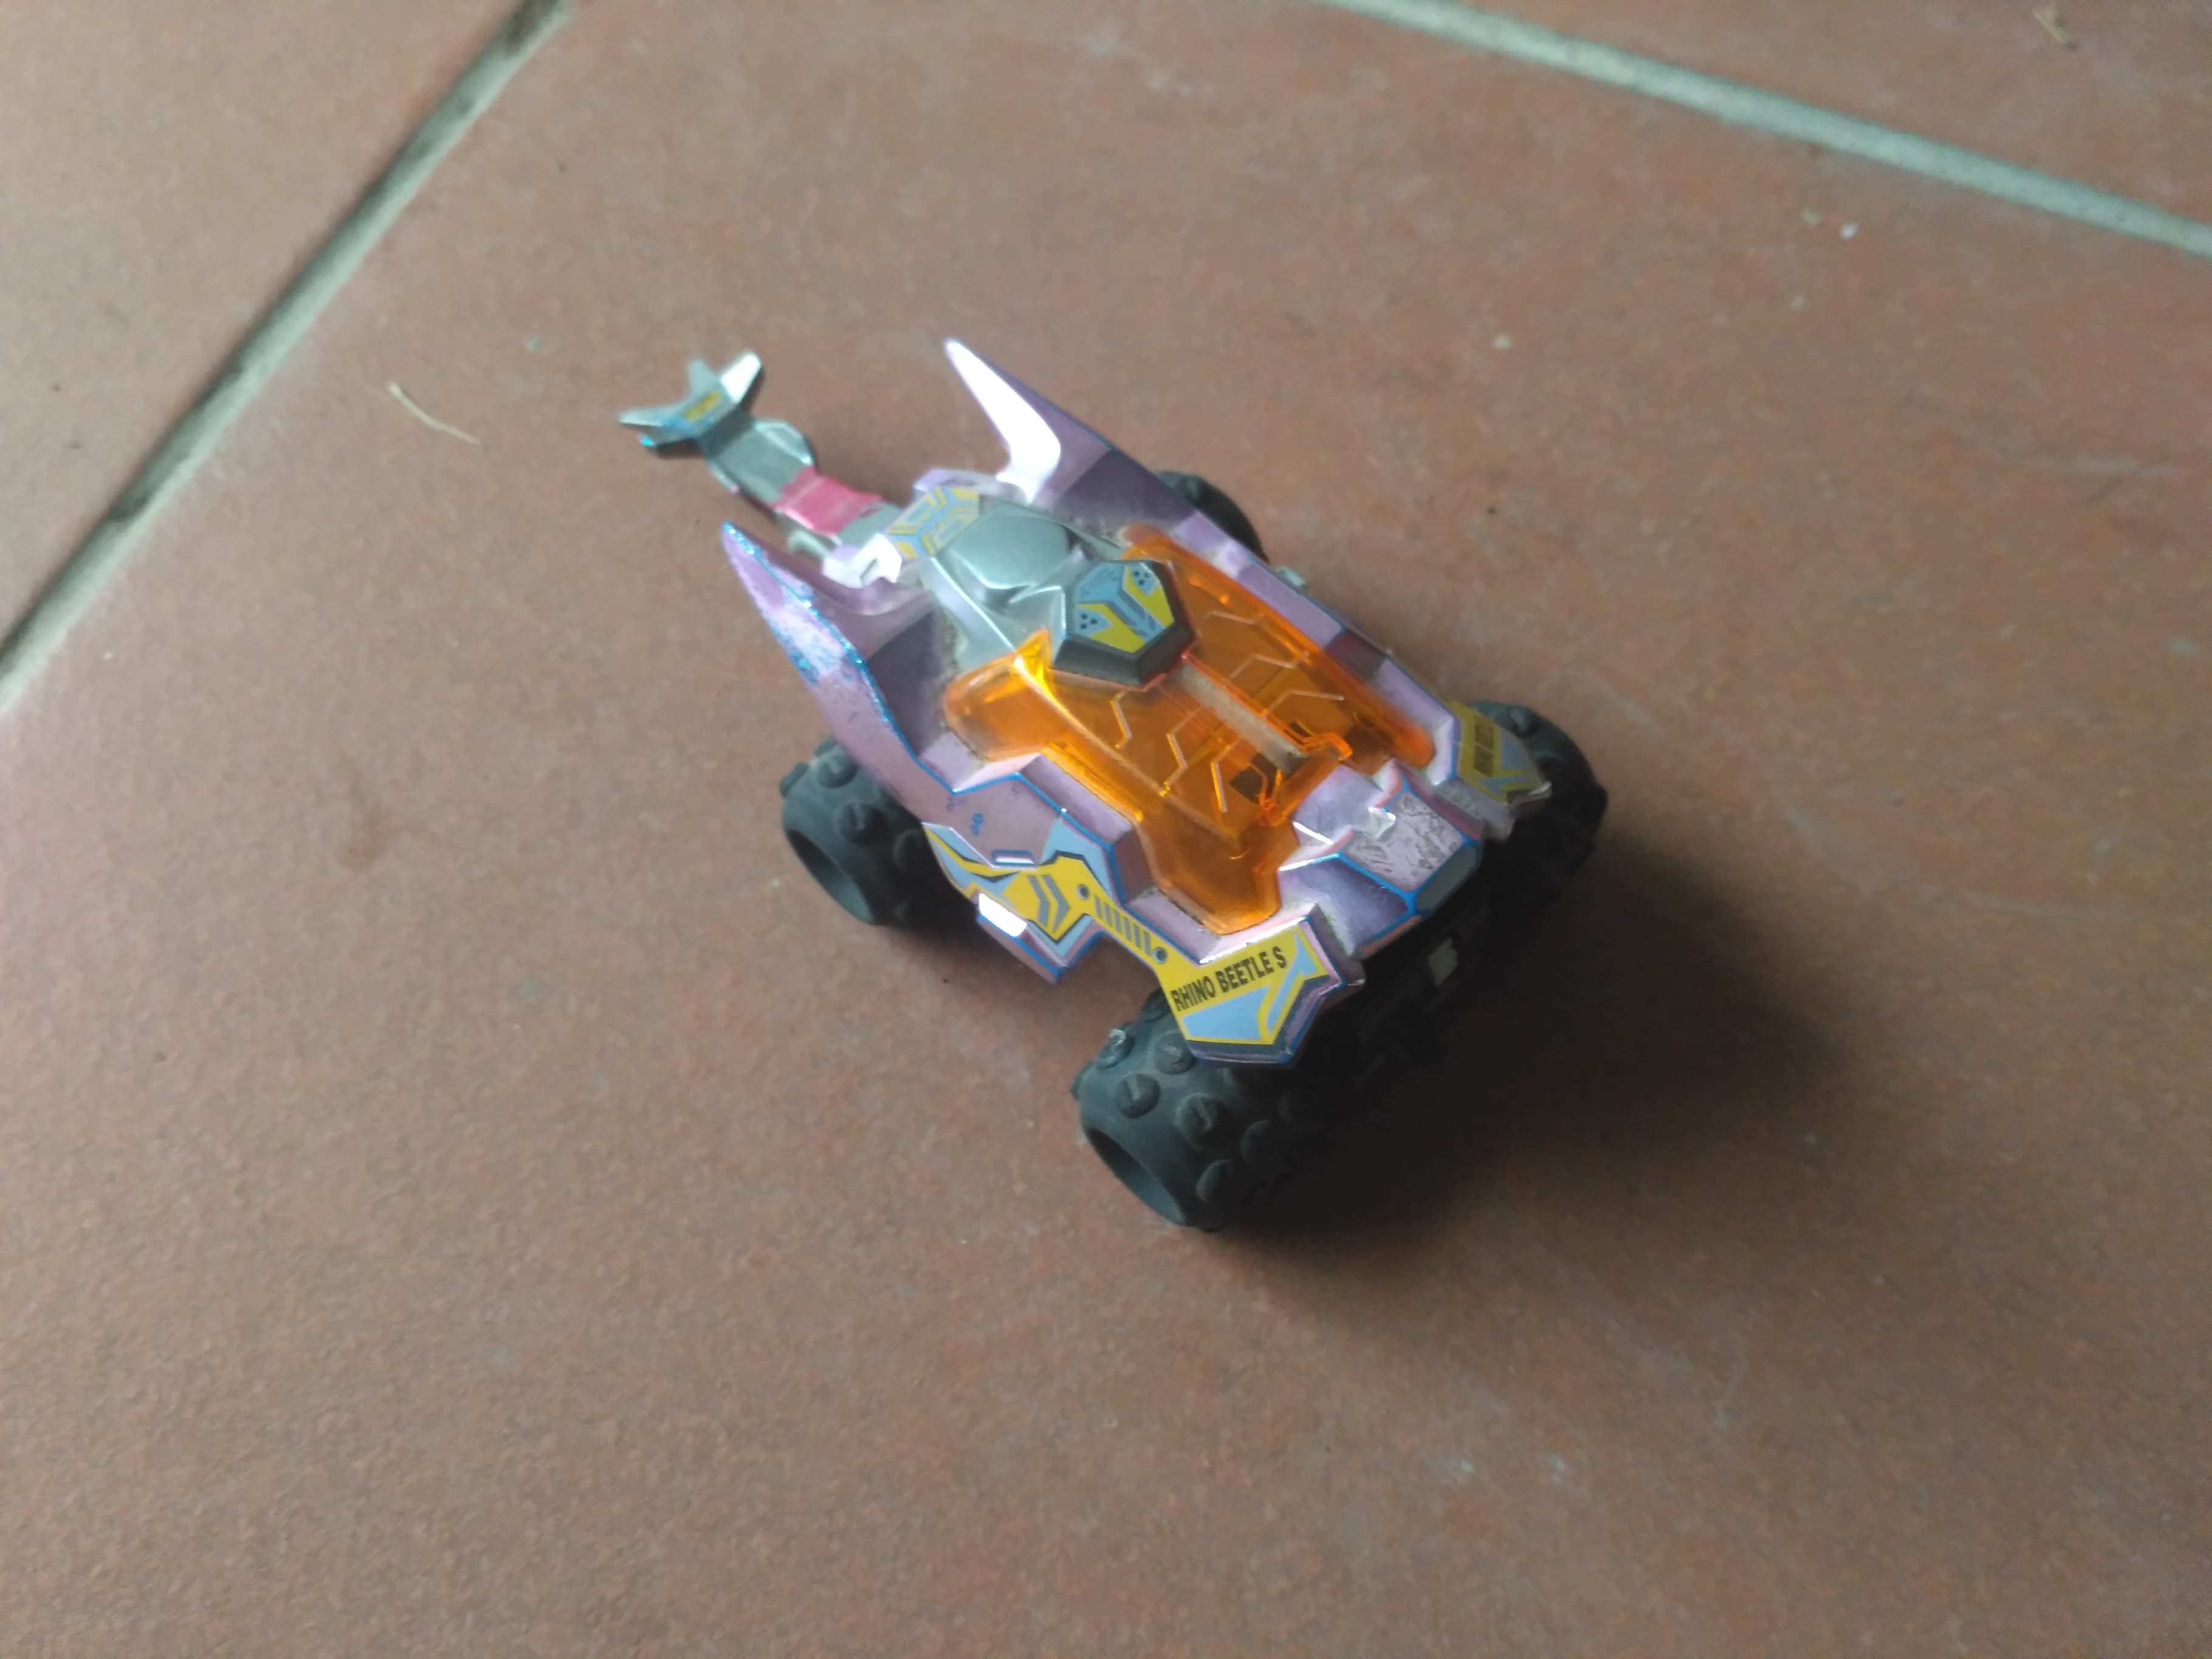rhino: (610, 329, 1629, 1239)
